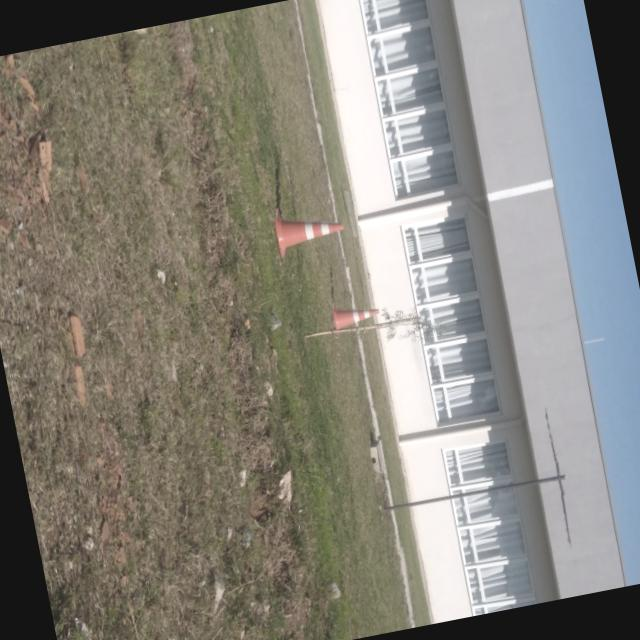cone: (264, 194, 352, 266), (324, 296, 384, 340)
